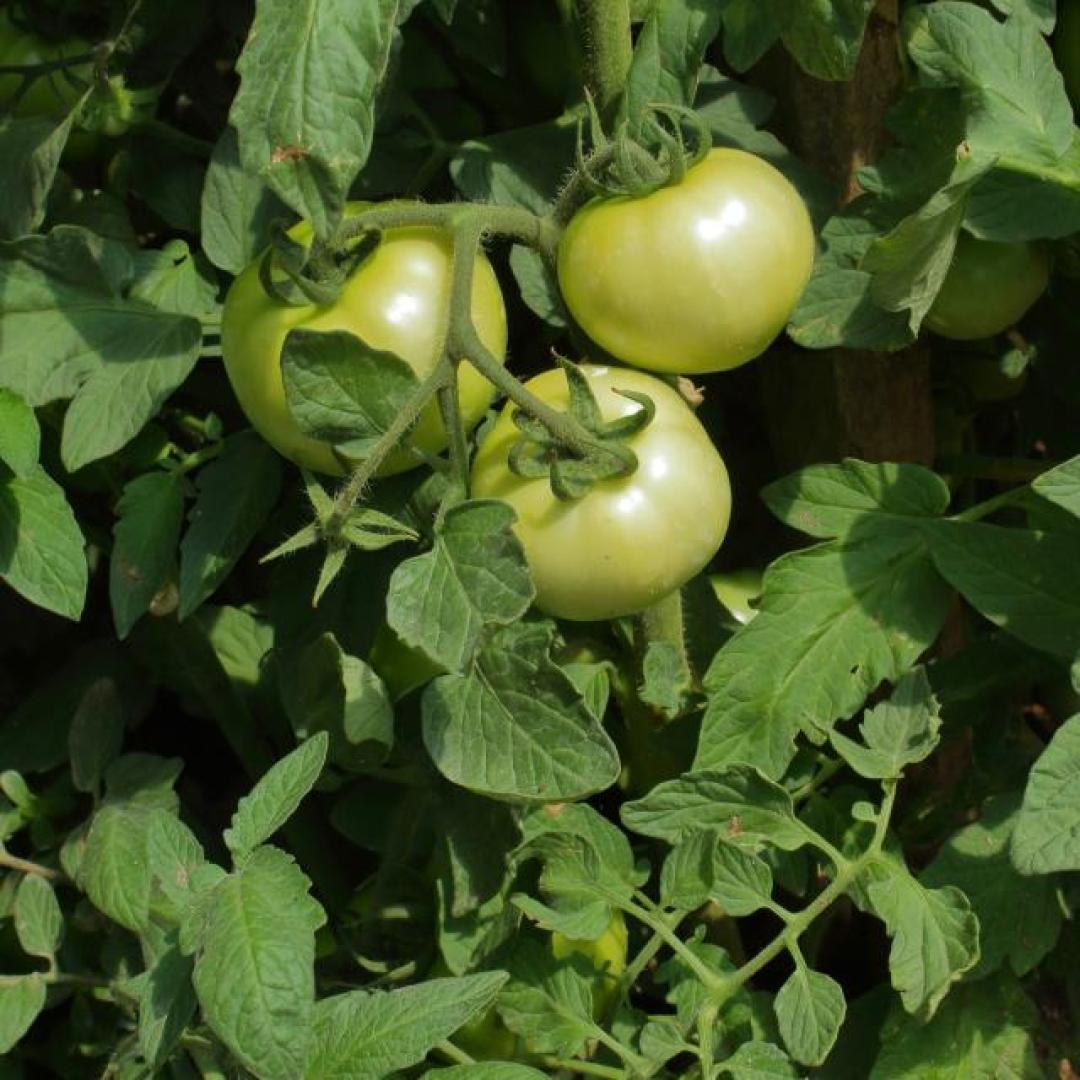mentah: (216, 196, 510, 482), (469, 363, 731, 623), (555, 147, 815, 371)
